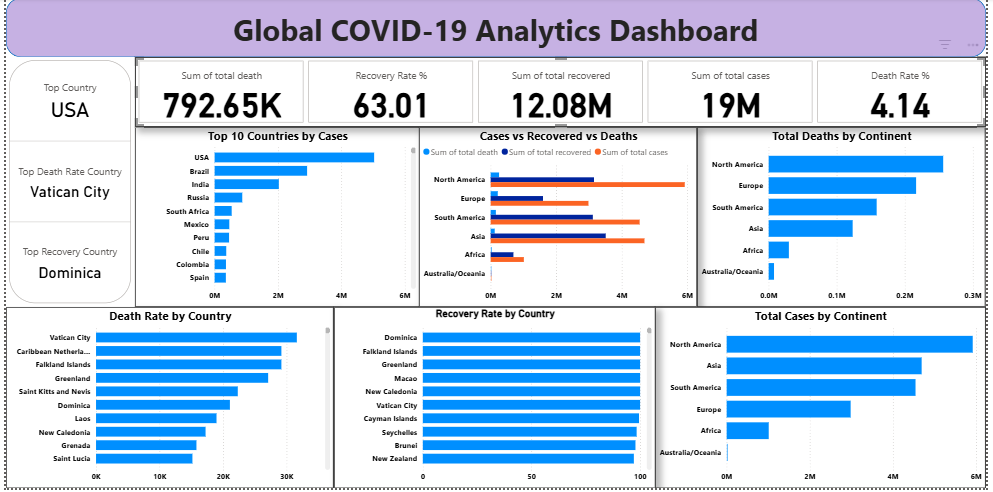

The page's visual inventory and layout, read from the dashboard file:
{"tool":"powerbi","page":{"name":"Page 1","canvas":[1600,800],"ordinal":0},"visuals":[{"type":"clusteredBarChart","title":"Top 10 Countries by Cases","fields":{"Category":["covidsql corona.country"],"Y":["Sum(covidsql corona.totalcases)"]},"box":[209.9,209.9,464.5,294.2],"z":0},{"type":"clusteredBarChart","title":"Total Deaths by Continent","fields":{"Category":["covidsql corona.continent"],"Y":["Sum(covidsql corona.totaldeaths)"]},"box":[1128.6,209.9,471.4,294.2],"z":1000},{"type":"clusteredBarChart","title":"Cases vs Recovered vs Deaths","fields":{"Category":["covidsql corona.continent"],"Y":["Sum(covidsql corona.totaldeaths)","Sum(covidsql corona.totalrecovered)","Sum(covidsql corona.totalcases)"]},"box":[674.4,209.9,454.2,294.2],"z":2000},{"type":"cardVisual","title":"TOTAL CASES BY COUNTRY","fields":{"Data":["Sum(covidsql corona.totaldeaths)","covidsql corona.Recovery Rate %","Sum(covidsql corona.totalrecovered)","Sum(covidsql corona.totalcases)","covidsql corona.Death Rate %"]},"box":[209.9,96.3,1390.1,113.5],"z":3000},{"type":"shape","box":[0,0,1600,96.3],"z":4000},{"type":"clusteredBarChart","title":"Death Rate by Country","fields":{"Category":["covidsql corona.country"],"Y":["covidsql corona.Death Rate %"]},"box":[0,504.1,535.1,295.9],"z":5000},{"type":"clusteredBarChart","title":"Total Cases by Continent","fields":{"Category":["covidsql corona.continent"],"Y":["Sum(covidsql corona.total cases)"]},"box":[1059.8,504.1,540.2,295.9],"z":6000},{"type":"textbox","box":[0,13.8,1600,82.6],"z":7000},{"type":"clusteredBarChart","title":"Recovery Rate by Country","fields":{"Category":["covidsql corona.country"],"Y":["covidsql corona.Recovery Rate %"]},"box":[535.1,504.1,524.7,295.9],"z":8000},{"type":"cardVisual","fields":{"Data":["covidsql corona.Top Country","covidsql corona.Top Death Rate Country","covidsql corona.Top Recovery Country"]},"box":[0,96.3,209.9,407.7],"z":9000}]}

Visuals, with their boxes in screenshot pixels (x1, y1, x2, y2), scaled from the page's 1600x800 canvas onto the 993x492 screenshot:
"Top 10 Countries by Cases" clusteredBarChart: (left=130, top=129, right=419, bottom=310)
"Total Deaths by Continent" clusteredBarChart: (left=700, top=129, right=992, bottom=310)
"Cases vs Recovered vs Deaths" clusteredBarChart: (left=419, top=129, right=700, bottom=310)
"TOTAL CASES BY COUNTRY" cardVisual: (left=130, top=59, right=992, bottom=129)
shape: (left=0, top=0, right=992, bottom=59)
"Death Rate by Country" clusteredBarChart: (left=0, top=310, right=332, bottom=491)
"Total Cases by Continent" clusteredBarChart: (left=658, top=310, right=992, bottom=491)
textbox: (left=0, top=8, right=992, bottom=59)
"Recovery Rate by Country" clusteredBarChart: (left=332, top=310, right=658, bottom=491)
cardVisual - covidsql corona.Top Country x covidsql corona.Top Death Rate Country: (left=0, top=59, right=130, bottom=310)
